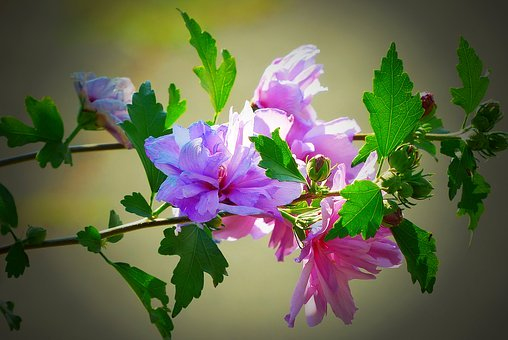Hibiscus: (281, 190, 408, 332), (153, 119, 295, 244), (256, 30, 372, 167), (64, 65, 149, 144), (464, 78, 501, 157)
